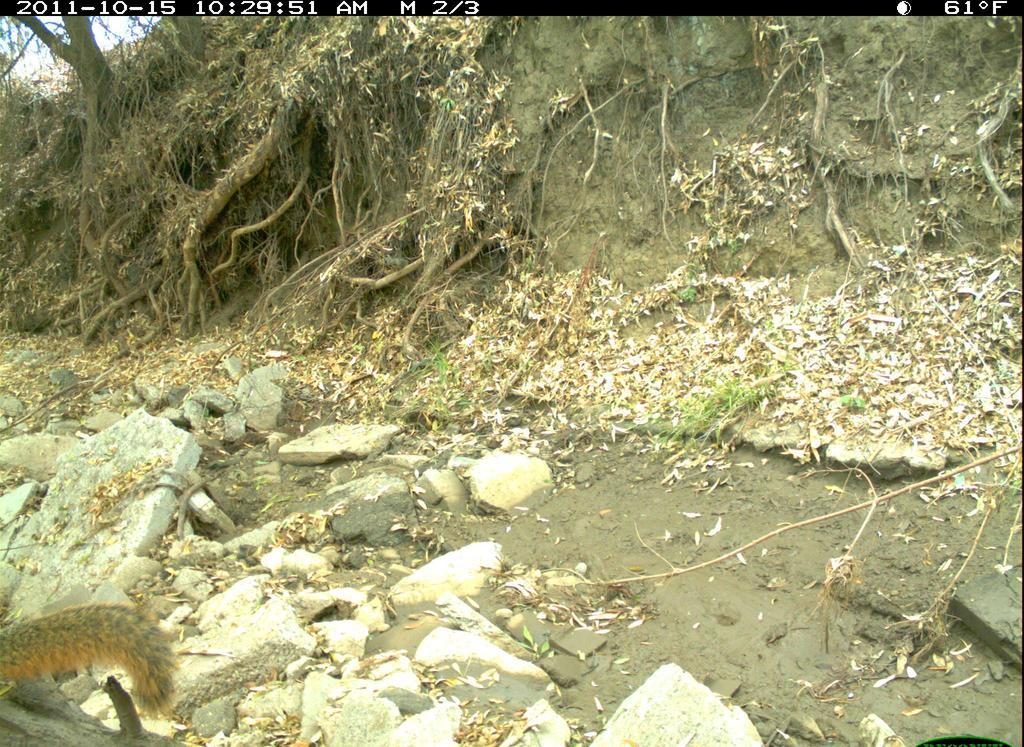squirrel: (2, 598, 189, 731)
